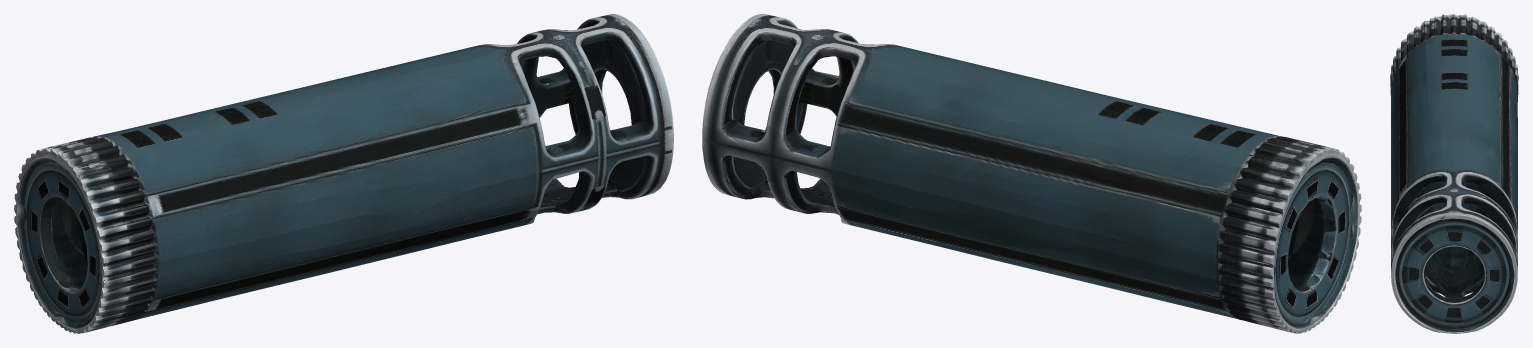
Rendered from mod_compensator.glb.
The picture shows the model from 3 angles, left to right: view 1: azimuth 30°, elevation 25°; view 2: azimuth 150°, elevation 25°; view 3: azimuth 270°, elevation 25°; orthographic projection. The views are drawn at different scales.
Size of the model in its own units: 1.9 by 0.5492 by 0.5206.
1 material, 1 textured.
